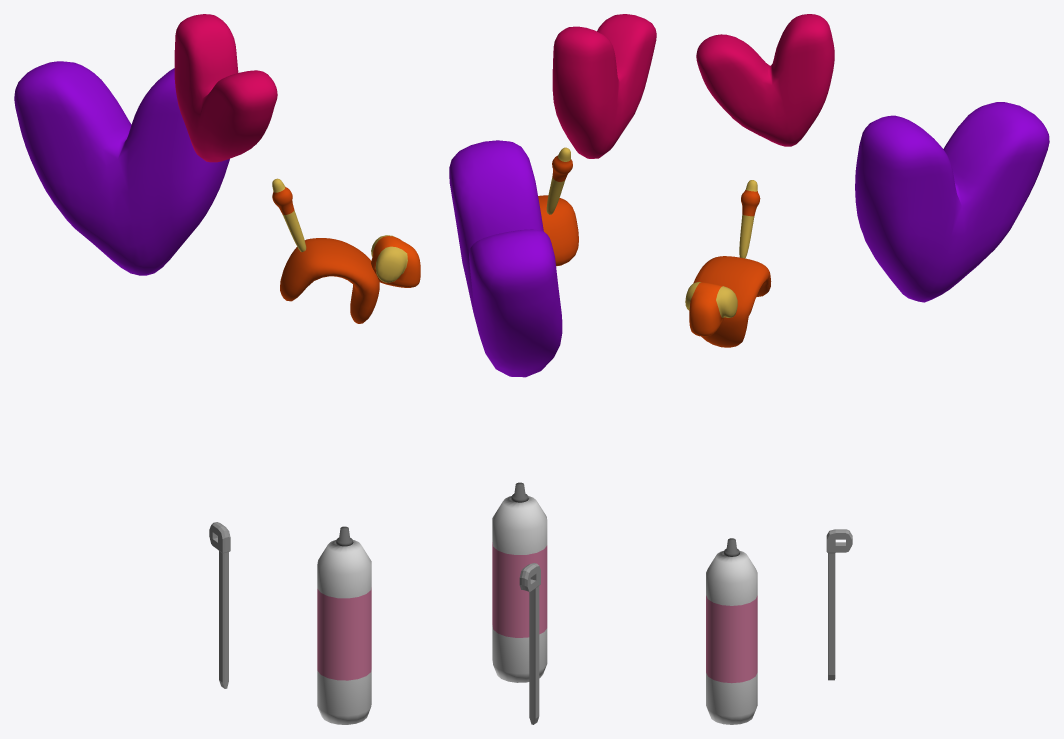
The model's file is Luftballons.fbx.
The picture shows the model from 3 angles, left to right: view 1: azimuth 30°, elevation 25°; view 2: azimuth 150°, elevation 25°; view 3: azimuth 270°, elevation 25°; orthographic projection. The views are drawn at different scales.
Parts seen in each view (by area): view 1: Cube.002, Cube.001, Cylinder, Cube.003, Cube.004, Cube, Cube.005; view 2: Cube.002, Cube.001, Cylinder, Cube, Cube.003, Cube.005; view 3: Cube.002, Cube.001, Cylinder, Cube.003, Cube.004, Cube, Cube.005.
Boxes of the visible parts, x1,y1,x2,y2 form: Cube.002: (14, 61, 229, 275); Cube.001: (174, 14, 277, 162); Cylinder: (317, 526, 371, 724); Cube.003: (280, 238, 379, 323); Cube.004: (371, 235, 420, 287); Cube: (209, 522, 230, 688); Cube.005: (272, 178, 306, 252); Cube.002: (449, 140, 562, 377); Cube.001: (552, 14, 656, 158); Cylinder: (492, 482, 547, 682); Cube: (519, 563, 540, 724); Cube.003: (538, 195, 578, 266); Cube.005: (546, 147, 572, 214); Cube.002: (855, 102, 1049, 302); Cube.001: (696, 14, 834, 146); Cylinder: (706, 538, 757, 724); Cube.003: (693, 256, 771, 347); Cube.004: (685, 282, 737, 336); Cube: (826, 529, 852, 680); Cube.005: (739, 180, 760, 258).
Bounding box in the file's own units: 1005 × 2783 × 1411.
